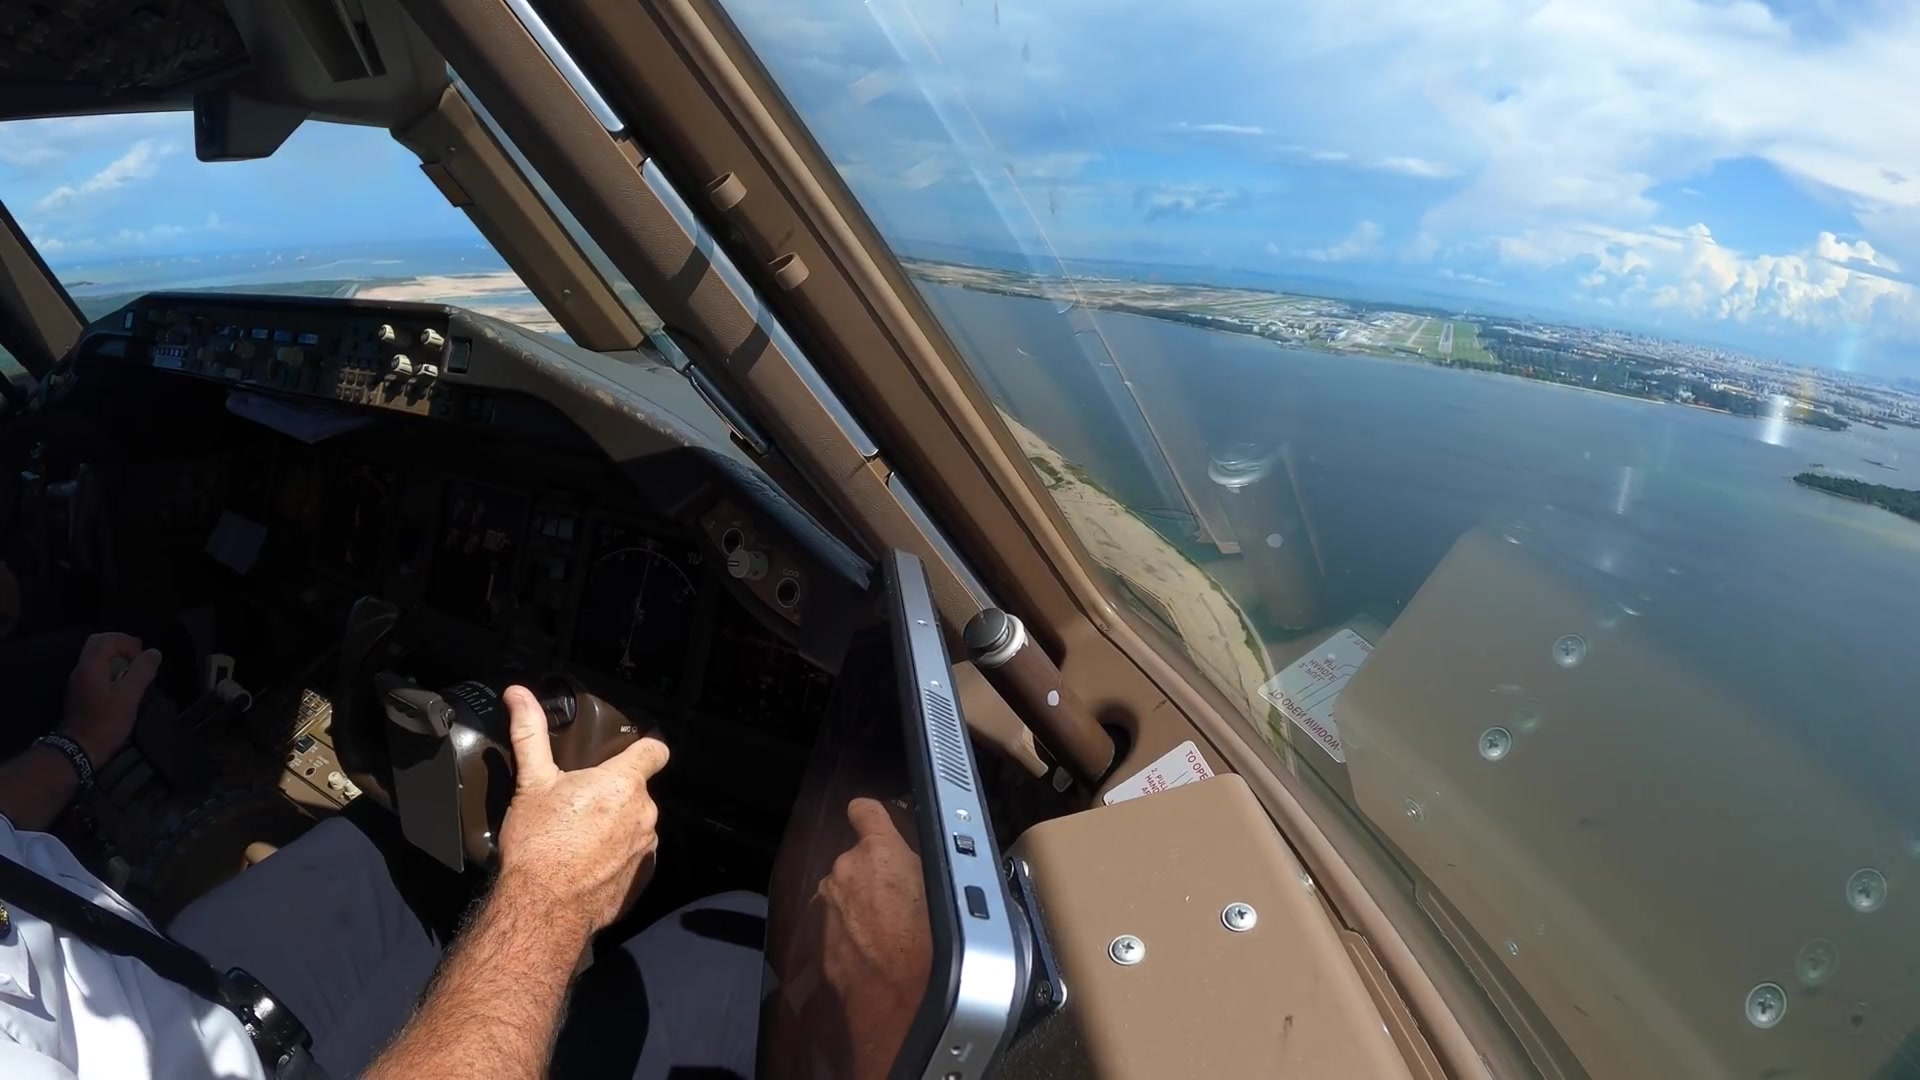runway: (1436, 320, 1456, 355)
